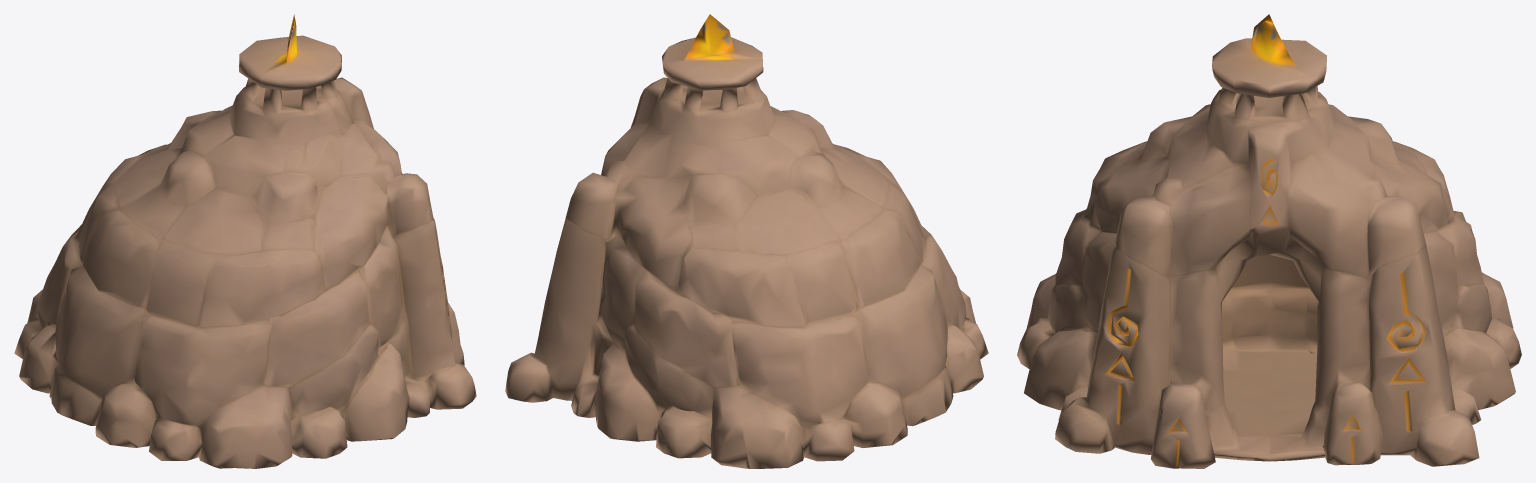
The model's file is townhall.glb.
3 renders of one model, left to right at view 1: azimuth 30°, elevation 25°; view 2: azimuth 150°, elevation 25°; view 3: azimuth 270°, elevation 25°, orthographic. The views are drawn at different scales.
Parts seen in each view (by area): view 1: tripo_node_f21dea25-0e77-4716-a98f-197c12c583d8; view 2: tripo_node_f21dea25-0e77-4716-a98f-197c12c583d8; view 3: tripo_node_f21dea25-0e77-4716-a98f-197c12c583d8.
Part boxes in pixels (bbox=[...]): tripo_node_f21dea25-0e77-4716-a98f-197c12c583d8: bbox=[14, 14, 476, 468]; tripo_node_f21dea25-0e77-4716-a98f-197c12c583d8: bbox=[505, 14, 988, 468]; tripo_node_f21dea25-0e77-4716-a98f-197c12c583d8: bbox=[1017, 14, 1521, 468].
Bounding box in the file's own units: 0.9138 × 0.8275 × 0.9804.
1 material, 1 textured.
